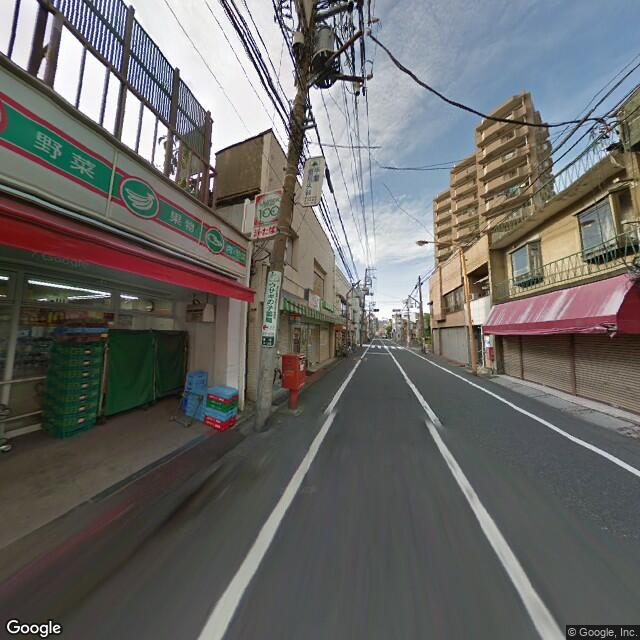lawson: (2, 65, 249, 290), (251, 185, 283, 227)
